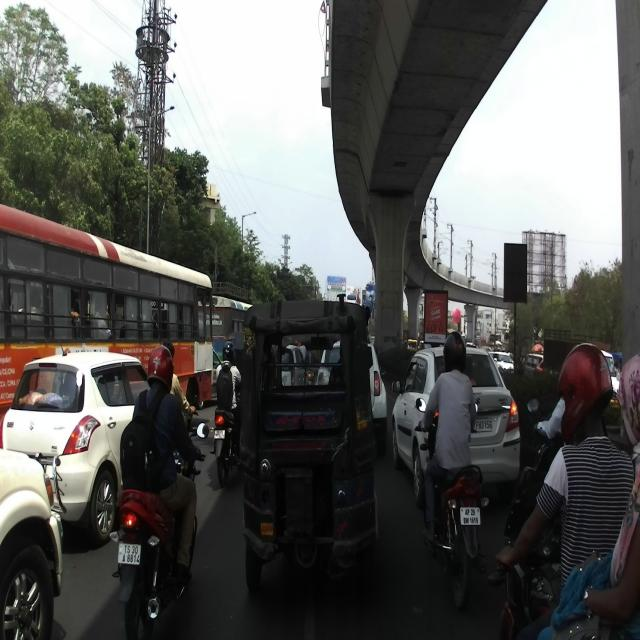Car_Maruti-Suzuki: (1, 338, 162, 546), (391, 345, 521, 508)
autorickshaw: (240, 290, 384, 592)
bus: (0, 200, 212, 447)
motorcycle_Hero: (108, 412, 209, 640), (414, 396, 488, 612)
motorcycle_Honda: (210, 386, 242, 486)
motorcycle_bajaj: (488, 460, 638, 636)
